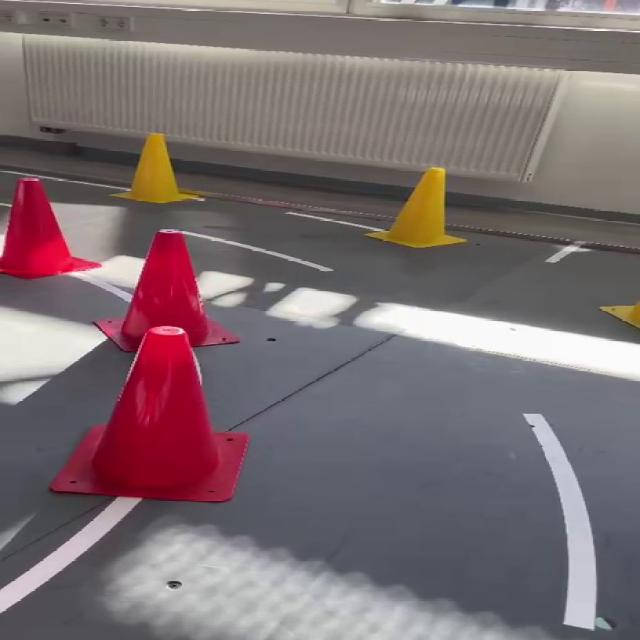Cone-red: (50, 328, 248, 502), (97, 230, 239, 352), (0, 178, 98, 278)
Cones-yellow: (366, 168, 466, 248), (113, 134, 199, 203), (600, 302, 639, 328)
